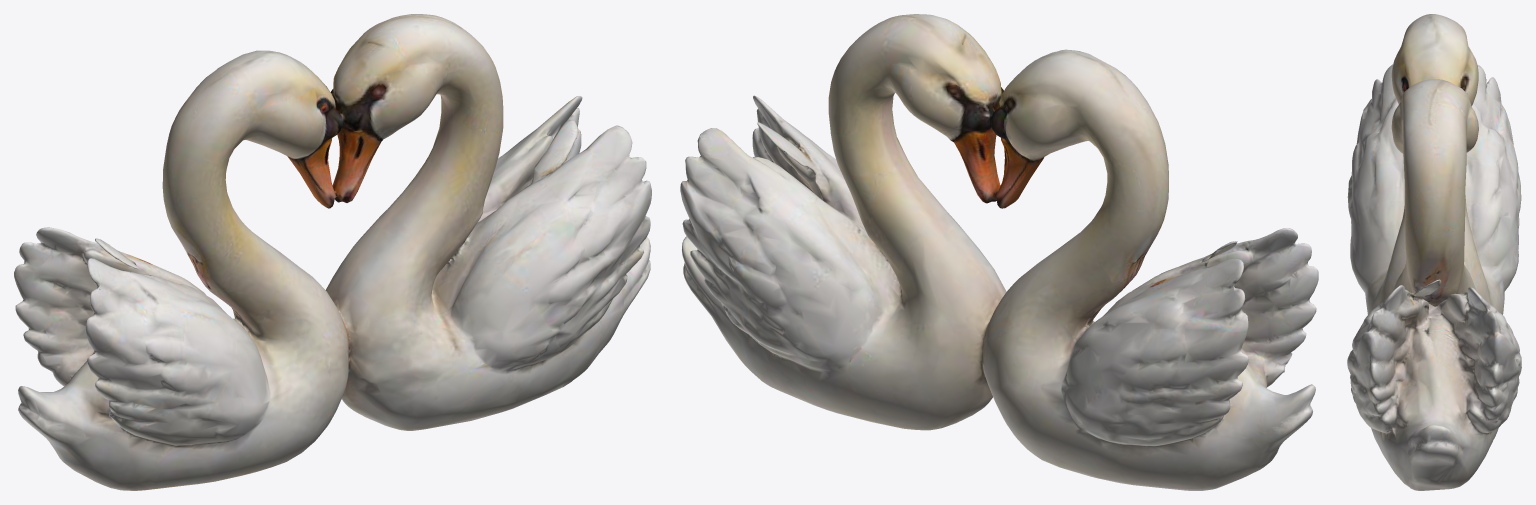
3 renders of one model, left to right at view 1: azimuth 30°, elevation 25°; view 2: azimuth 150°, elevation 25°; view 3: azimuth 270°, elevation 25°, orthographic. The views are drawn at different scales.
Size of the model in its own units: 1.99 by 1.21 by 0.5507.
Materials: 1 (1 with a texture image).
